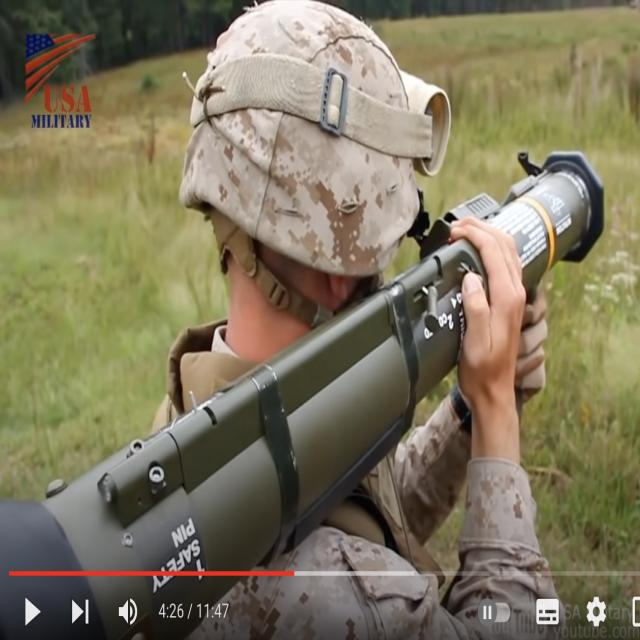bazooka: (1, 120, 617, 640)
